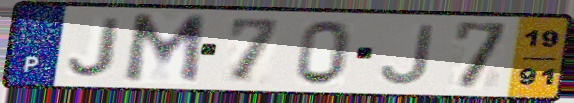0: (291, 17, 355, 87)
7: (451, 19, 511, 92), (225, 16, 281, 85)
J: (377, 22, 438, 87), (65, 15, 126, 79)
M: (120, 12, 210, 86)
